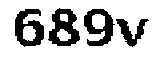6: (14, 7, 45, 49)
8: (48, 7, 80, 49)
9: (81, 6, 115, 50)
v: (115, 16, 149, 50)
